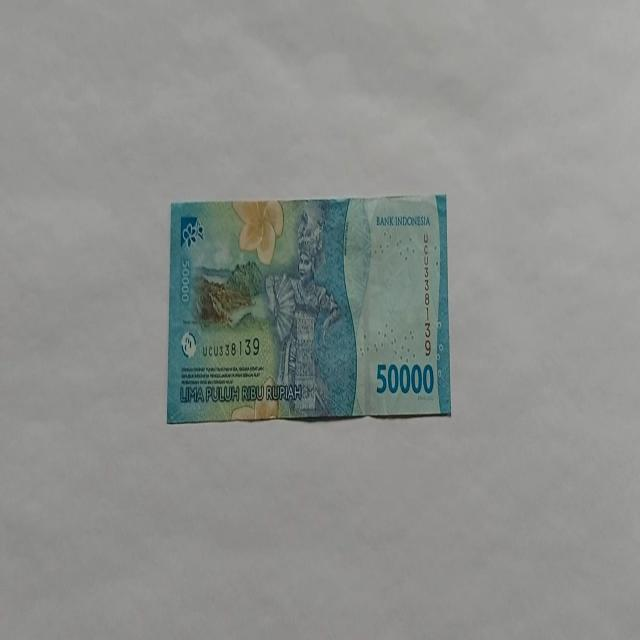lima puluh ribu rupiah: (166, 193, 452, 424)
